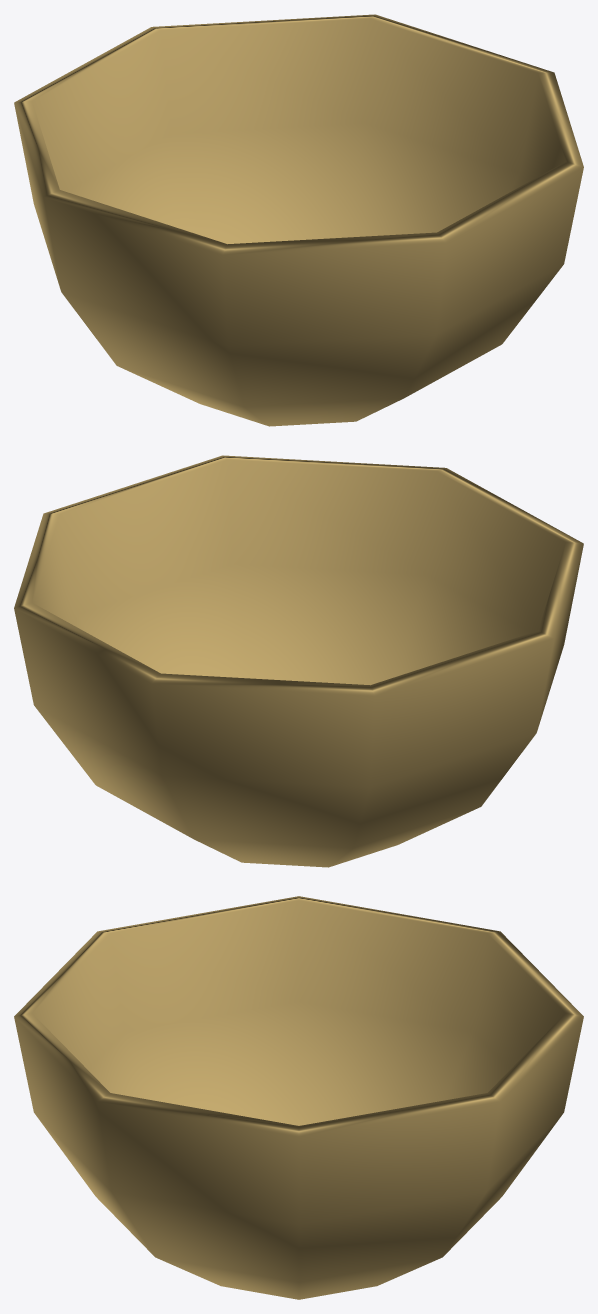
File: FBX BOL.fbx
3 renders of one model, top to bottom at view 1: azimuth 30°, elevation 25°; view 2: azimuth 150°, elevation 25°; view 3: azimuth 270°, elevation 25°, orthographic. The views are drawn at different scales.
Parts seen in each view (by area): view 1: pSphere1; view 2: pSphere1; view 3: pSphere1.
Part boxes in pixels (<box>): pSphere1: <box>14,14,583,426</box>; pSphere1: <box>14,455,583,867</box>; pSphere1: <box>14,896,583,1299</box>.
Size of the model in its own units: 13.95 by 6.48 by 13.95.
